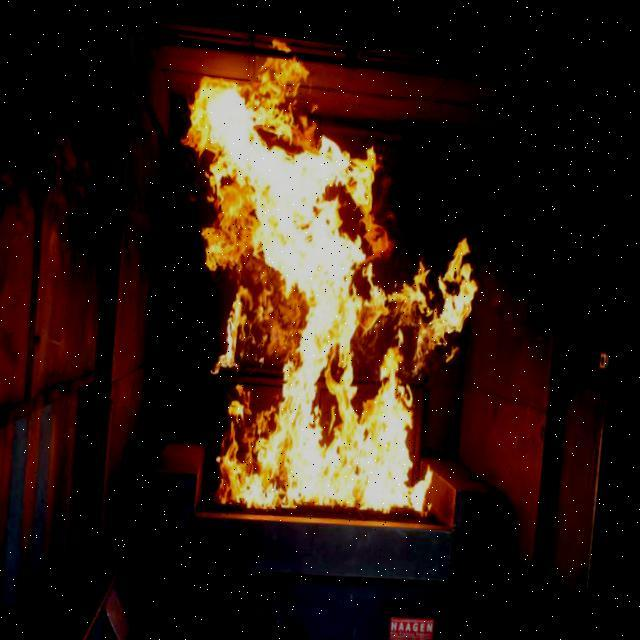Fire: (165, 34, 490, 510)
